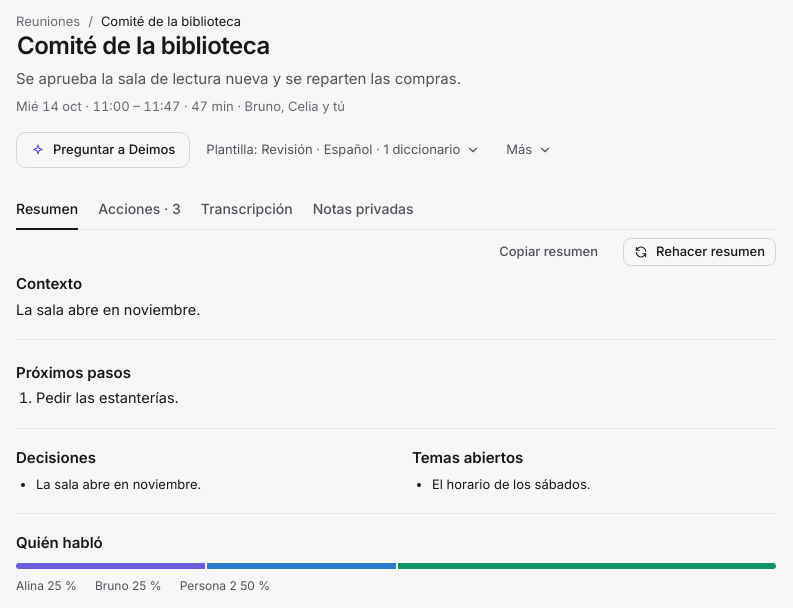
Test case: the tasks › are grouped by person, yours first, with how many are left
Step 1. Click the tab "Acciones · 3" → (140, 210), box [98,190,181,230]
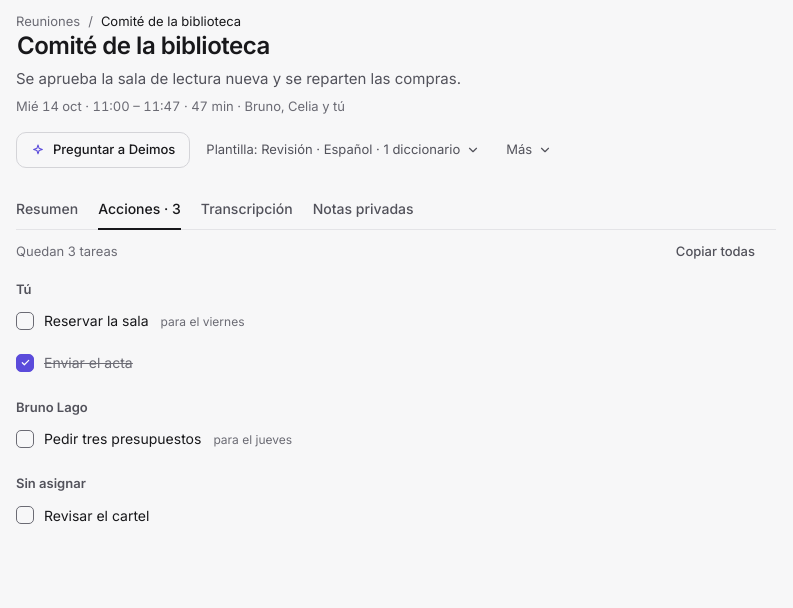
expect the text "Quedan 3 tareas" is shown: met, box [16,243,118,259]
expect the headings read "Tú", "Bruno Lago", "Sin asignar", in this order: met, box [16,280,32,296]; [16,399,88,415]; [16,475,86,491]
expect the checkbox labelled "Reservar la sala" shows "para el viernes": met, box [16,310,244,331]
